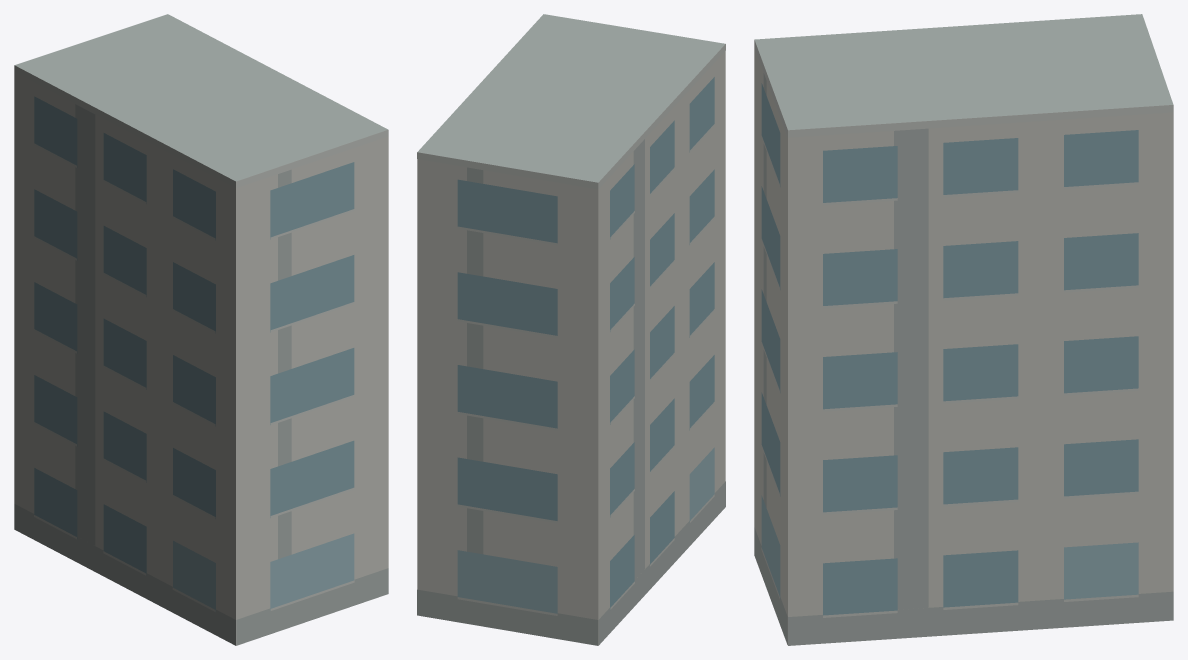
Rendered from survey-upis-32763484.glb.
3 views of the same model, side by side, from view 1: azimuth 30°, elevation 25°; view 2: azimuth 150°, elevation 25°; view 3: azimuth 270°, elevation 25° (orthographic). The views are drawn at different scales.
Visible parts, largest first — view 1: survey-upis-32763484.tmp; view 2: survey-upis-32763484.tmp; view 3: survey-upis-32763484.tmp.
Boxes of the visible parts, x1,y1,x2,y2 form: survey-upis-32763484.tmp: [14, 14, 388, 645]; survey-upis-32763484.tmp: [417, 14, 725, 645]; survey-upis-32763484.tmp: [754, 14, 1173, 645].
Bounding box in the file's own units: 7.99 × 16.5 × 12.17.
